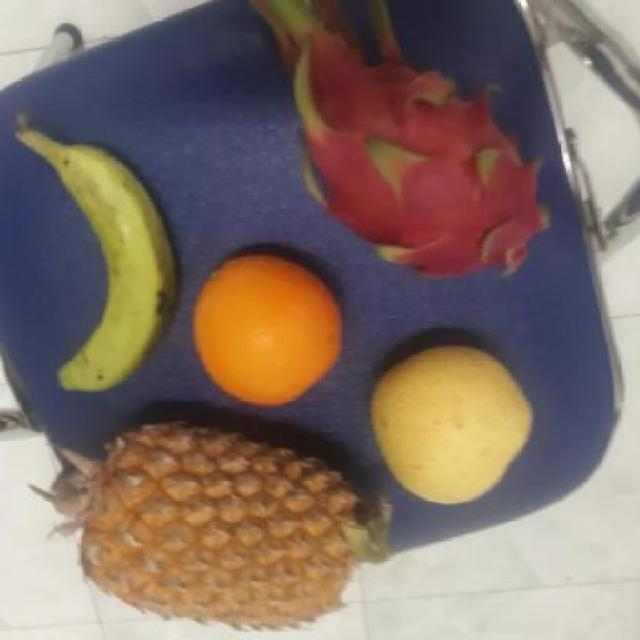banana: (42, 137, 179, 391)
dragon fruit: (291, 58, 558, 275)
guava: (371, 344, 538, 501)
pineapple: (68, 405, 391, 633)
